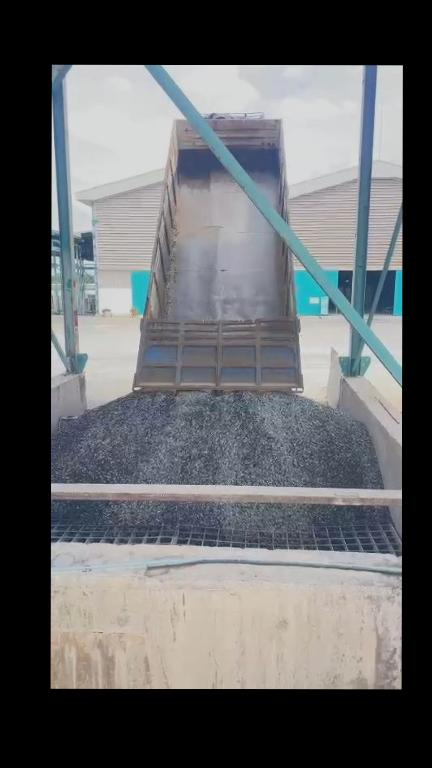gravel: (51, 392, 382, 488), (51, 502, 388, 531)
